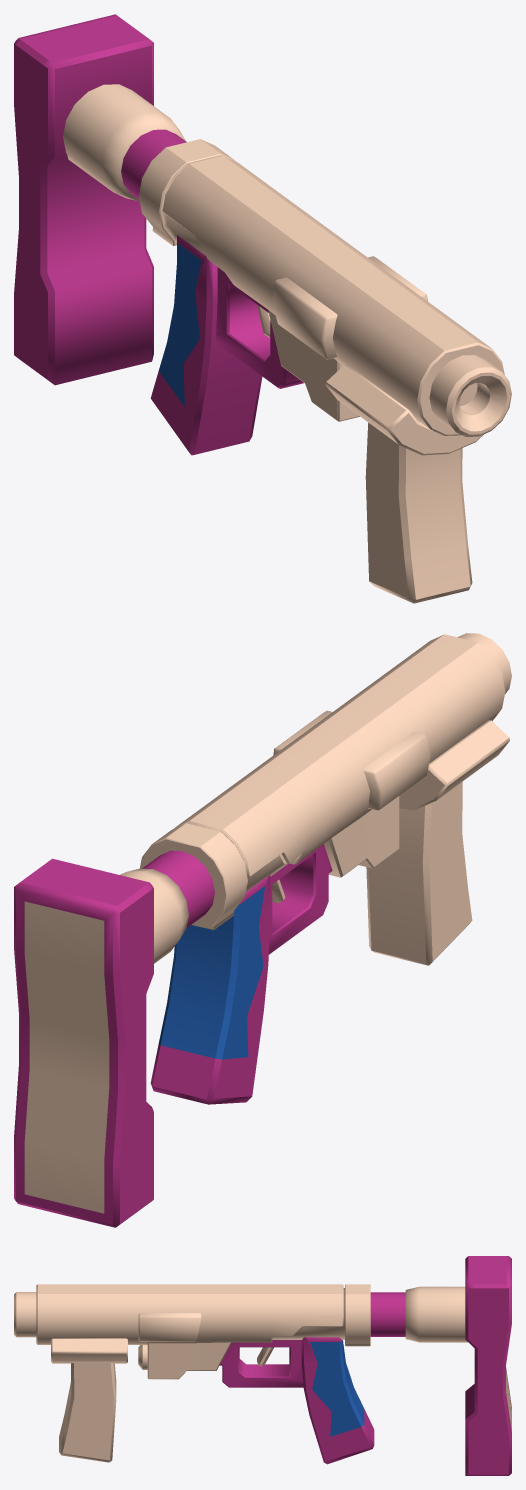
File: ios_gun 1.fbx
The picture shows the model from 3 angles, top to bottom: view 1: azimuth 30°, elevation 25°; view 2: azimuth 150°, elevation 25°; view 3: azimuth 270°, elevation 25°; orthographic projection. The views are drawn at different scales.
Visible parts, largest first — view 1: ios_gun; view 2: ios_gun; view 3: ios_gun.
Part boxes in pixels (left/top/right/bottom): ios_gun: left=14, top=14, right=511, bottom=603; ios_gun: left=14, top=633, right=511, bottom=1227; ios_gun: left=14, top=1256, right=511, bottom=1475.
Size of the model in its own units: 2.78 by 6.95 by 16.37.
